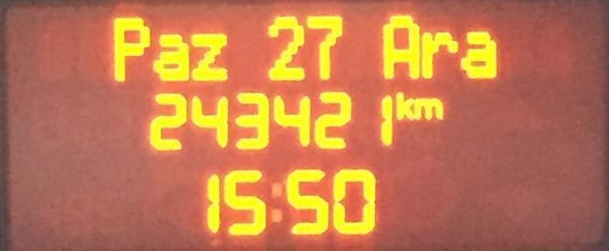0: (333, 164, 379, 237)
1: (200, 166, 220, 231), (374, 90, 395, 151)
2: (144, 90, 186, 155), (314, 85, 353, 149), (266, 12, 303, 79)
3: (231, 85, 271, 150)
4: (273, 89, 315, 147), (188, 90, 227, 148)
5: (222, 163, 269, 238), (285, 166, 331, 238)
7: (303, 12, 345, 80)
X: (377, 12, 418, 79), (109, 12, 149, 78), (188, 28, 229, 82), (460, 26, 499, 81), (150, 28, 188, 81), (419, 27, 457, 78), (266, 177, 286, 234), (414, 94, 444, 122), (394, 89, 415, 121)
